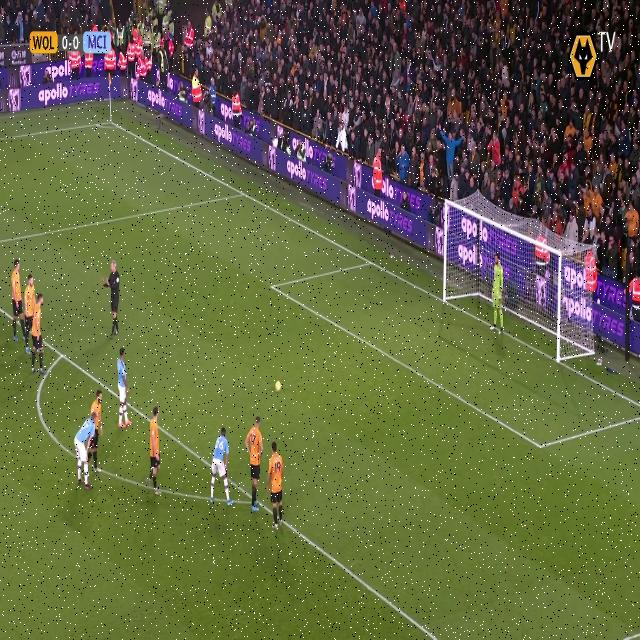Ball: (272, 376, 285, 395)
GoalKeeper: (488, 252, 507, 336)
TEAM 1: (210, 427, 234, 507), (73, 409, 97, 488), (116, 347, 132, 428)
TEAM 2: (245, 412, 263, 513), (267, 442, 285, 531), (7, 255, 25, 337), (31, 292, 49, 368), (148, 407, 162, 496), (22, 267, 35, 345), (93, 384, 102, 480)
